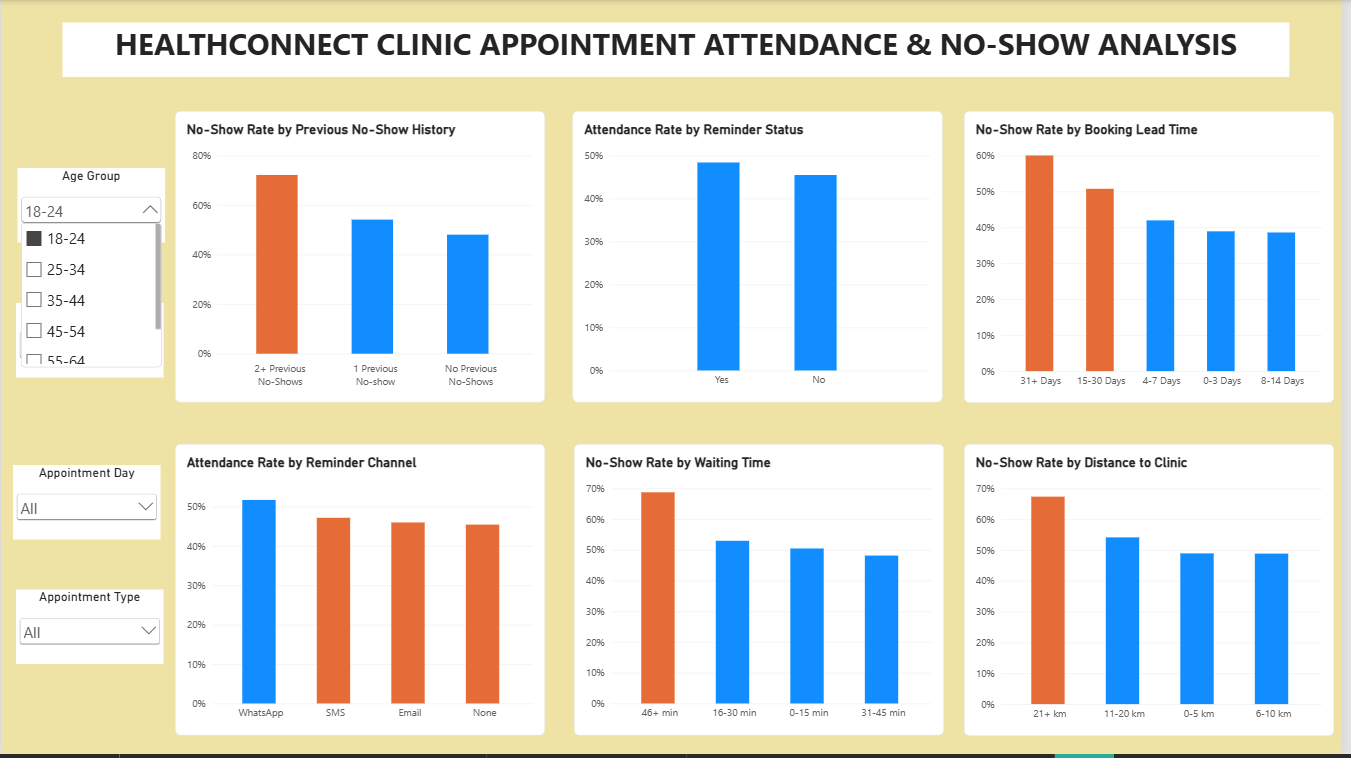

The dashboard page shown, as its layout file describes it:
{"tool":"powerbi","page":{"name":"No-Show Drivers","canvas":[1920,1080],"ordinal":1},"visuals":[{"type":"clusteredColumnChart","title":"No-Show Rate by Previous No-Show History","fields":{"Category":["HealthConnect_Appointment_Data_Raw.Previous No-Show Group"],"Y":["HealthConnect_Appointment_Data_Raw.No-Show Rate"]},"box":[248.7,158.7,530,417],"z":0},{"type":"clusteredColumnChart","title":"No-Show Rate by Booking Lead Time","fields":{"Category":["HealthConnect_Appointment_Data_Raw.Booking Lead Group"],"Y":["HealthConnect_Appointment_Data_Raw.No-Show Rate"]},"box":[1378.4,158.7,530,417.9],"z":1000},{"type":"clusteredColumnChart","title":"Attendance Rate by Reminder Status","fields":{"Category":["HealthConnect_Appointment_Data_Raw.reminder_sent"],"Y":["HealthConnect_Appointment_Data_Raw.Attendance Rate"]},"box":[819.5,158.7,530,417],"z":2000},{"type":"clusteredColumnChart","title":"Attendance Rate by Reminder Channel","fields":{"Category":["HealthConnect_Appointment_Data_Raw.reminder_channel"],"Y":["HealthConnect_Appointment_Data_Raw.Attendance Rate"]},"box":[249.8,636,530,417],"z":3000},{"type":"clusteredColumnChart","title":"No-Show Rate by Distance to Clinic","fields":{"Category":["HealthConnect_Appointment_Data_Raw.Distance Group"],"Y":["HealthConnect_Appointment_Data_Raw.No-Show Rate"]},"box":[1378.7,636,530,417.9],"z":4000},{"type":"clusteredColumnChart","title":"No-Show Rate by Waiting Time","fields":{"Category":["HealthConnect_Appointment_Data_Raw.Waiting Time Group"],"Y":["HealthConnect_Appointment_Data_Raw.No-Show Rate"]},"box":[819.9,636,530,417],"z":5000},{"type":"slicer","title":"Appointment Type","fields":{"Values":["HealthConnect_Appointment_Data_Raw.appointment_type"]},"box":[20.4,844.9,211.2,106.8],"z":6000},{"type":"slicer","title":"Gender","fields":{"Values":["HealthConnect_Appointment_Data_Raw.gender"]},"box":[20.4,433.8,211.2,106.8],"z":7000},{"type":"slicer","title":"Age Group","fields":{"Values":["HealthConnect_Appointment_Data_Raw.age_group"]},"box":[22.7,240.8,211.2,106.8],"z":8000},{"type":"slicer","title":"Appointment Day","fields":{"Values":["HealthConnect_Appointment_Data_Raw.appointment_day"]},"box":[18.2,665.5,211.2,106.8],"z":9000},{"type":"textbox","box":[87.6,33.2,1757.4,78.2],"z":9001}]}

Visuals, with their boxes in screenshot pixels (x1, y1, x2, y2), scaled from the page's 1920x1080 canvas onto the 1351x758 screenshot:
"No-Show Rate by Previous No-Show History" clusteredColumnChart: x1=175 y1=111 x2=548 y2=404
"No-Show Rate by Booking Lead Time" clusteredColumnChart: x1=970 y1=111 x2=1343 y2=405
"Attendance Rate by Reminder Status" clusteredColumnChart: x1=577 y1=111 x2=950 y2=404
"Attendance Rate by Reminder Channel" clusteredColumnChart: x1=176 y1=446 x2=549 y2=739
"No-Show Rate by Distance to Clinic" clusteredColumnChart: x1=970 y1=446 x2=1343 y2=740
"No-Show Rate by Waiting Time" clusteredColumnChart: x1=577 y1=446 x2=950 y2=739
"Appointment Type" slicer: x1=14 y1=593 x2=163 y2=668
"Gender" slicer: x1=14 y1=304 x2=163 y2=379
"Age Group" slicer: x1=16 y1=169 x2=165 y2=244
"Appointment Day" slicer: x1=13 y1=467 x2=161 y2=542
textbox: x1=62 y1=23 x2=1298 y2=78
